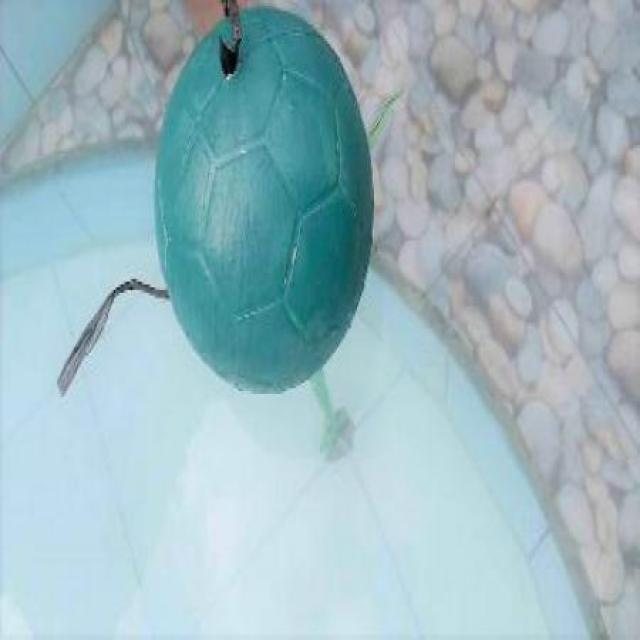buoy: (153, 4, 373, 390)
